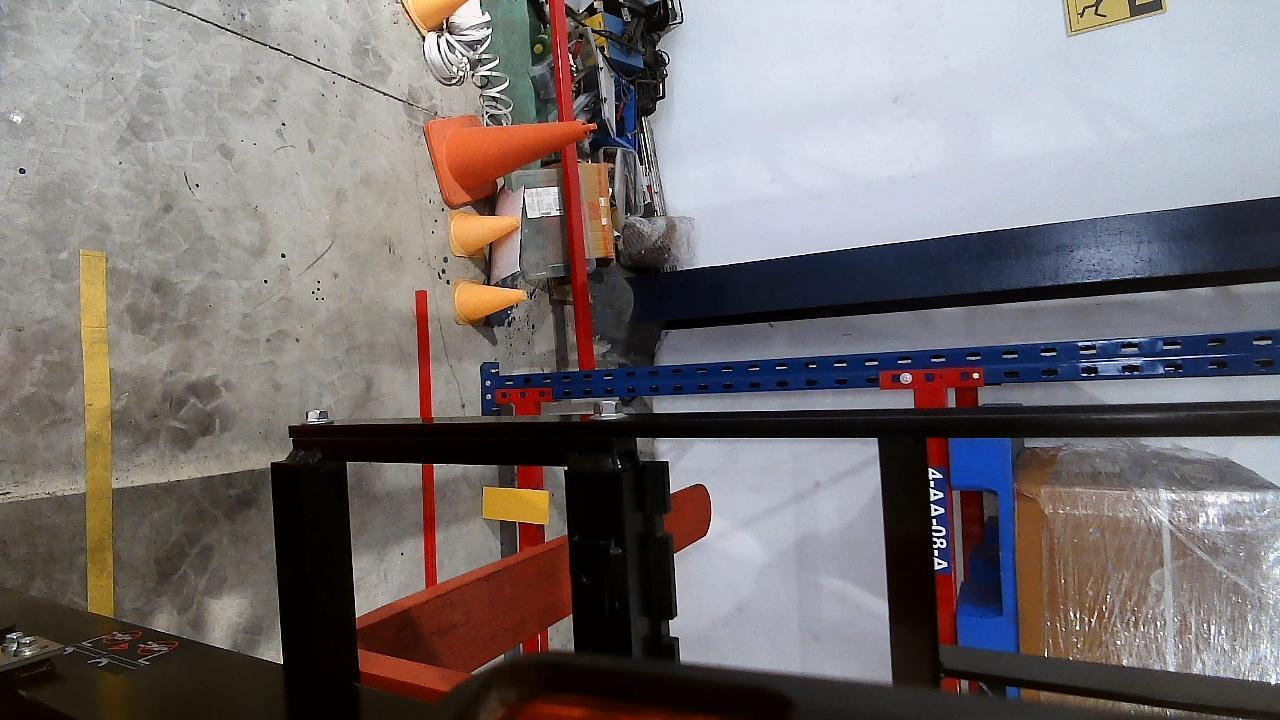red_line: (410, 292, 438, 590)
yellow_line: (79, 250, 113, 615)
